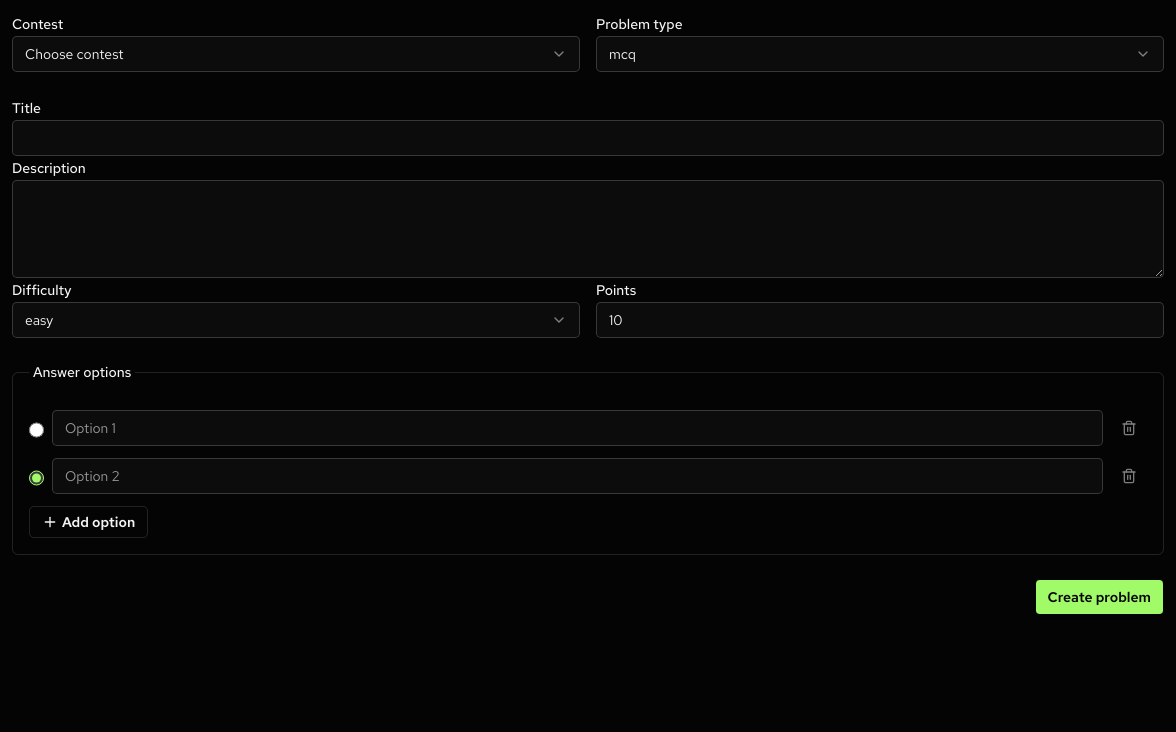
Scenario: administrative forms › validates the active polymorphic problem fields
Click the button "Create problem": (1099,597) [1034, 579, 1164, 615]
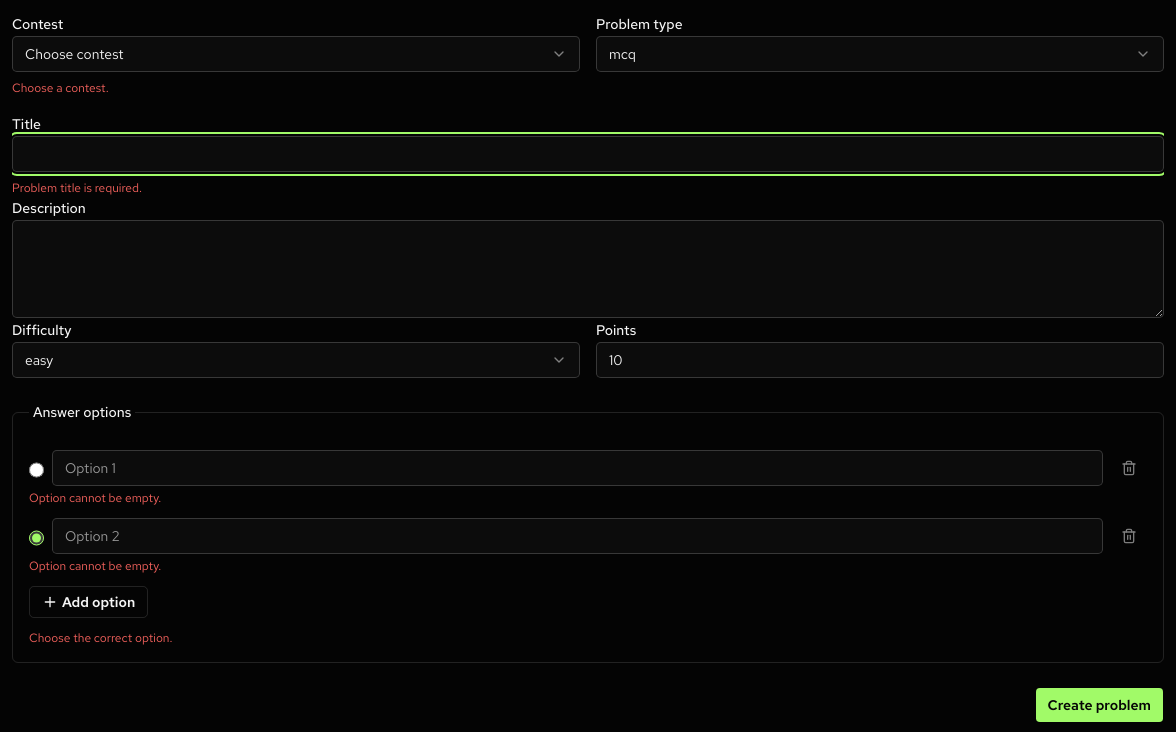
Result: the text "Choose a contest." is shown at [12, 80, 109, 96]
Result: the text "Problem title is required." is shown at [12, 180, 142, 196]
Result: the text "Choose the correct option." is shown at [29, 630, 172, 646]
